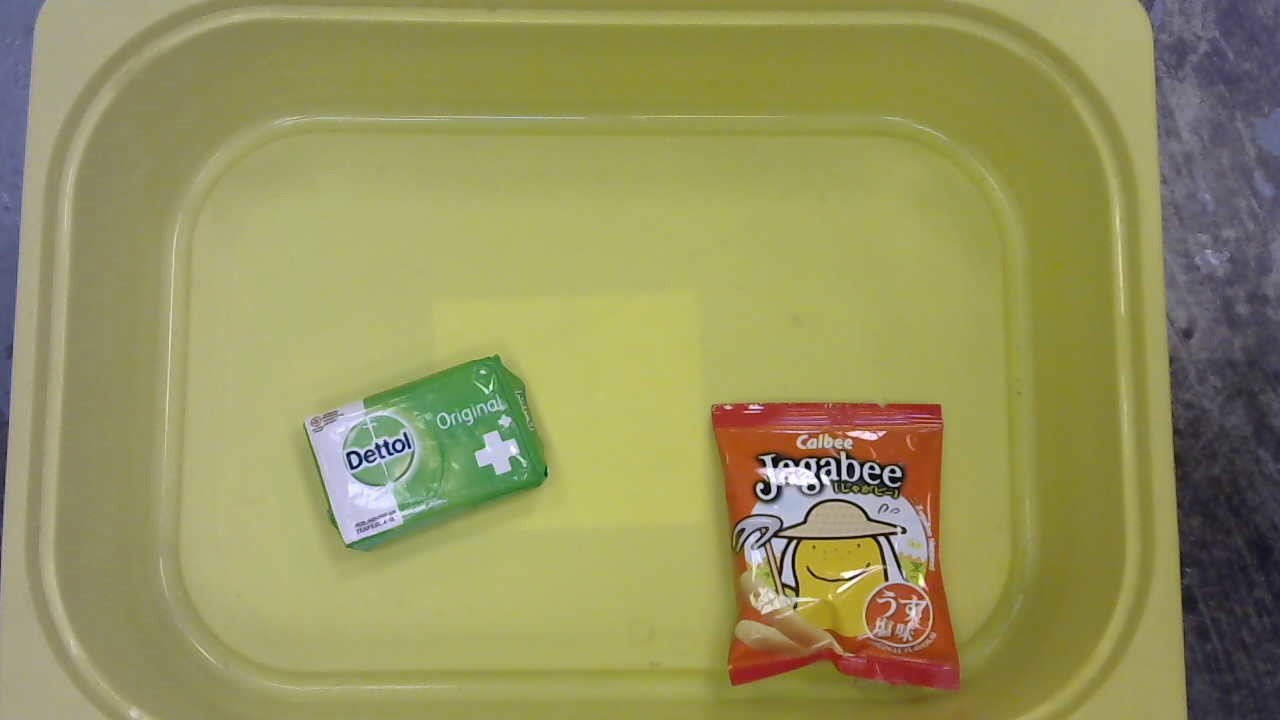Dettol: (297, 353, 554, 556)
JagabeeFarmer: (704, 399, 969, 701)
